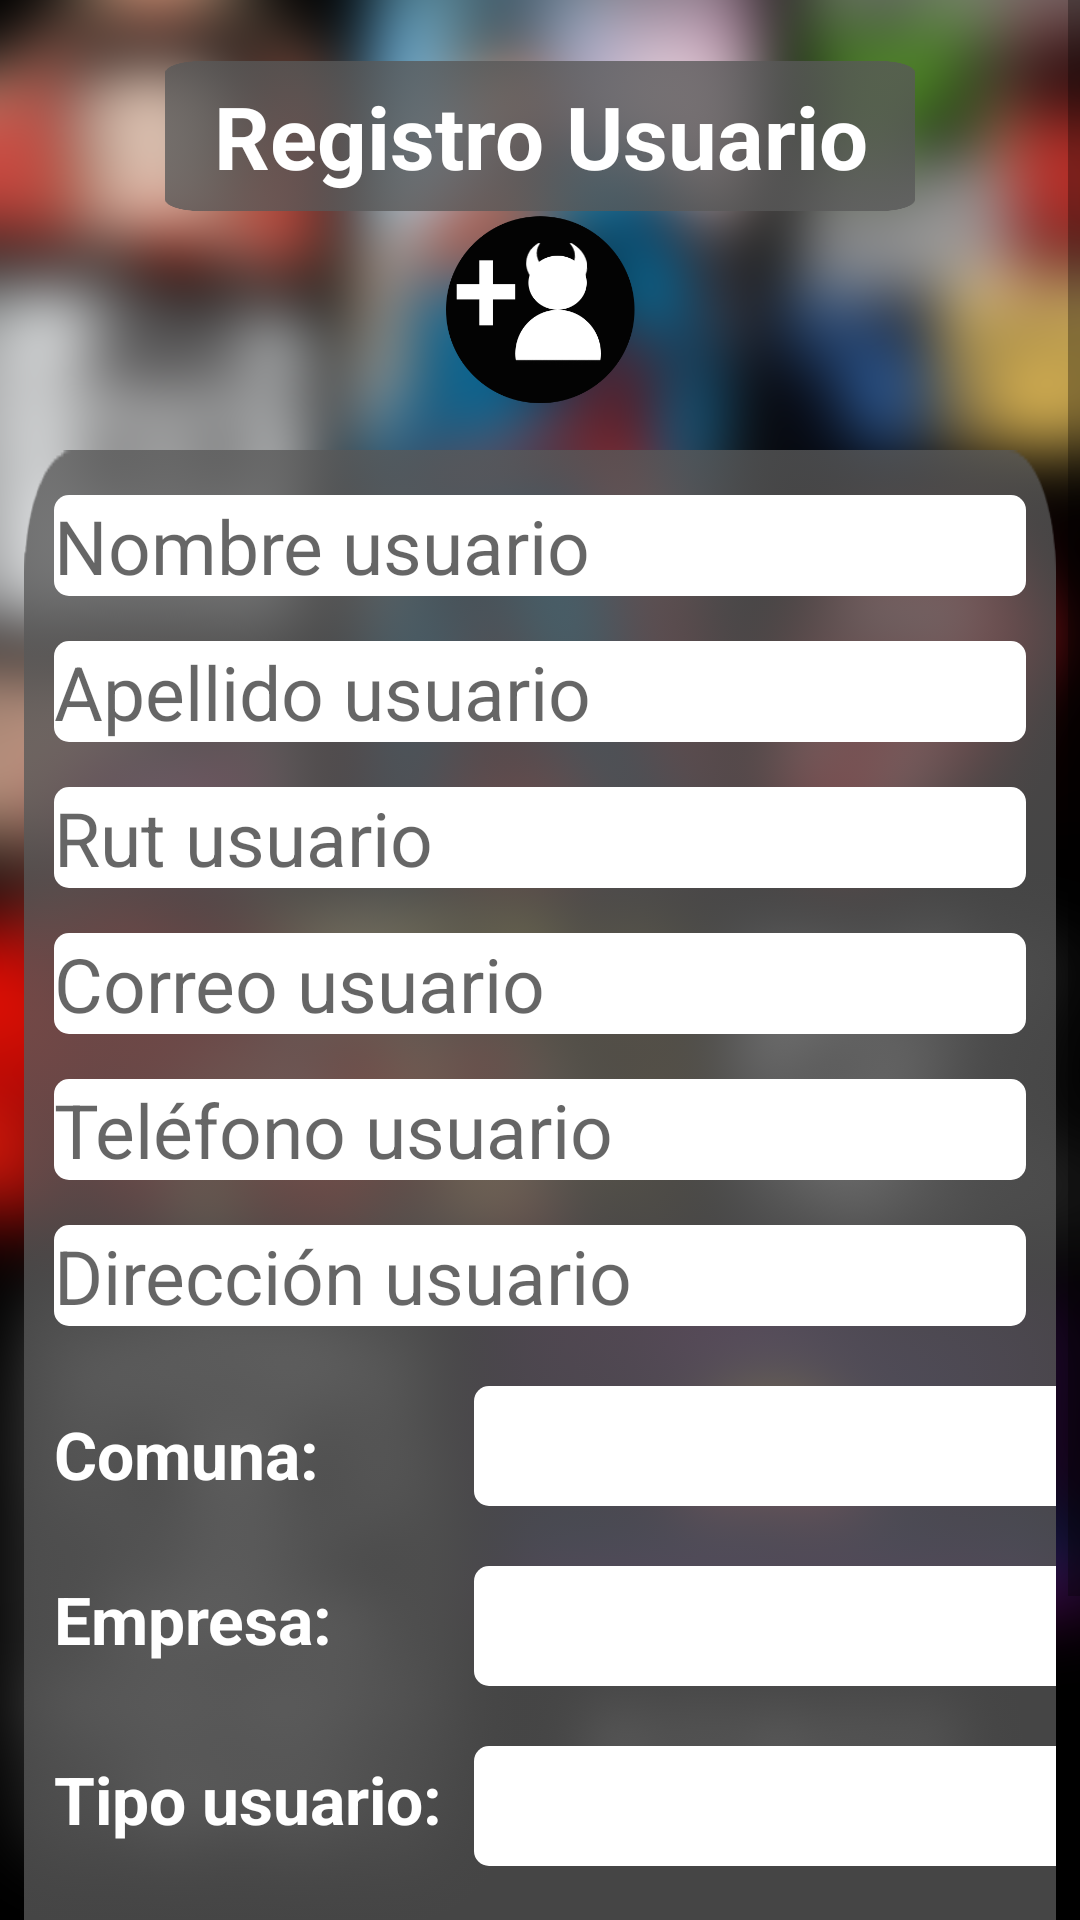

Where to tap for icons on this 1080×1920 app screen, as point (x, y):
masusuario: point (540, 315)
